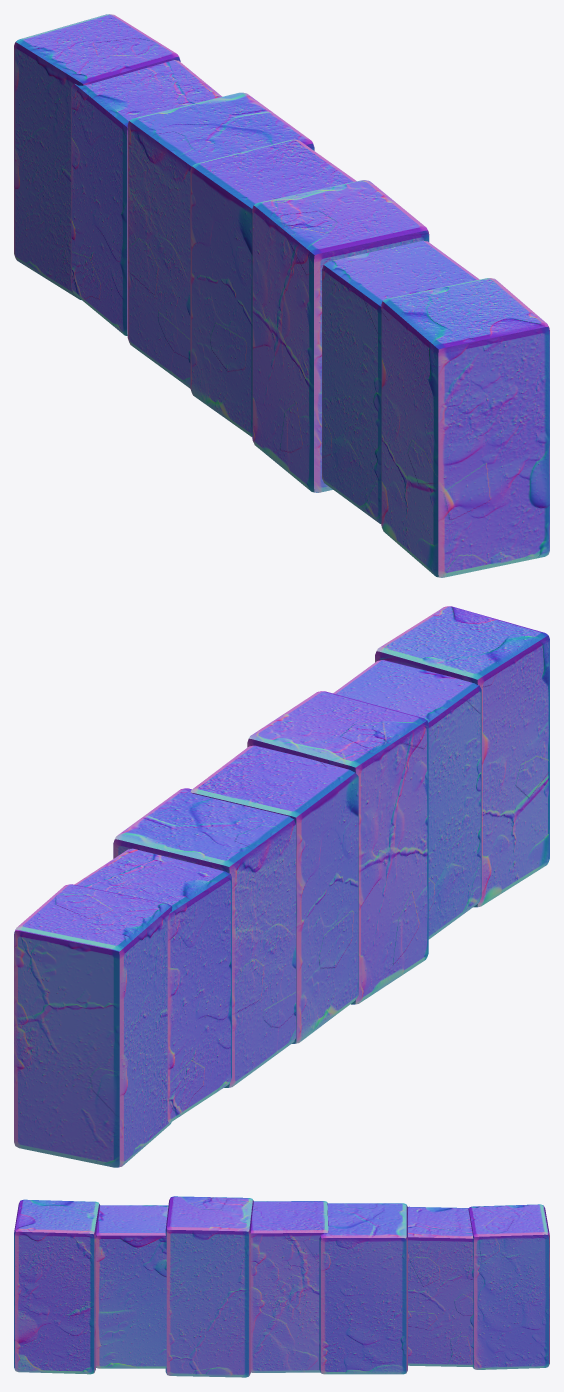
The model's file is Dungeon_FloorWallGlue.fbx.
The picture shows the model from 3 angles, top to bottom: view 1: azimuth 30°, elevation 25°; view 2: azimuth 150°, elevation 25°; view 3: azimuth 270°, elevation 25°; orthographic projection. The views are drawn at different scales.
Visible parts, largest first — view 1: MeshHP; view 2: MeshHP; view 3: MeshHP.
Boxes of the visible parts, left/top/right/bottom form: MeshHP: left=14, top=14, right=549, bottom=577; MeshHP: left=14, top=606, right=549, bottom=1167; MeshHP: left=14, top=1196, right=549, bottom=1377.
Bounding box in the file's own units: 0.7704 × 1.41 × 4.61.
1 material, 1 textured.
